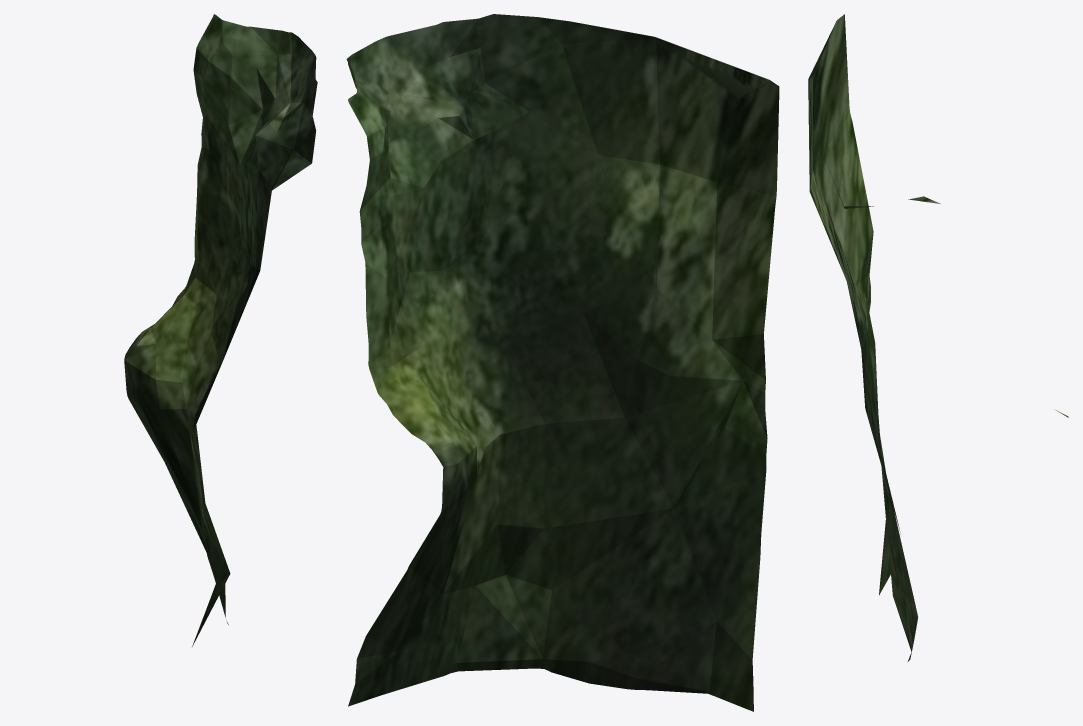
3 renders of one model, left to right at view 1: azimuth 30°, elevation 25°; view 2: azimuth 150°, elevation 25°; view 3: azimuth 270°, elevation 25°, orthographic. The views are drawn at different scales.
Bounding box in the file's own units: 3.6 × 5.9 × 2.49.
2 materials, 2 textured.
